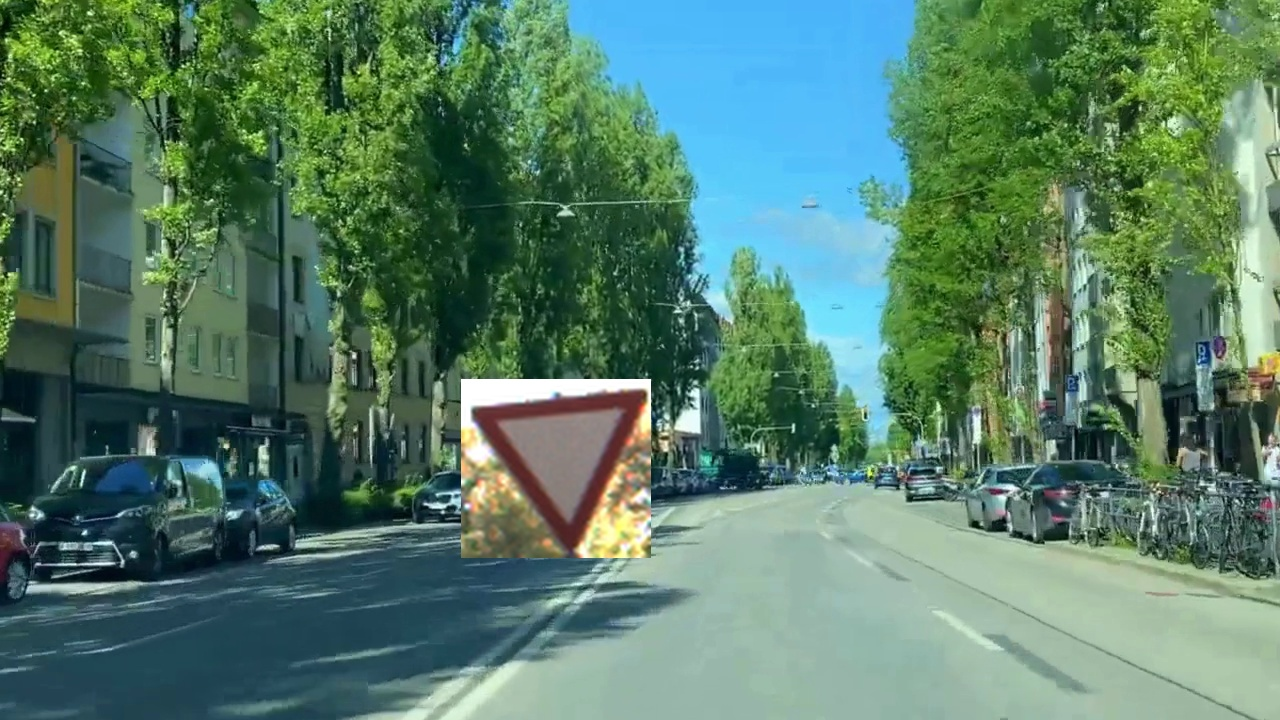Yield: (461, 379, 651, 558)
